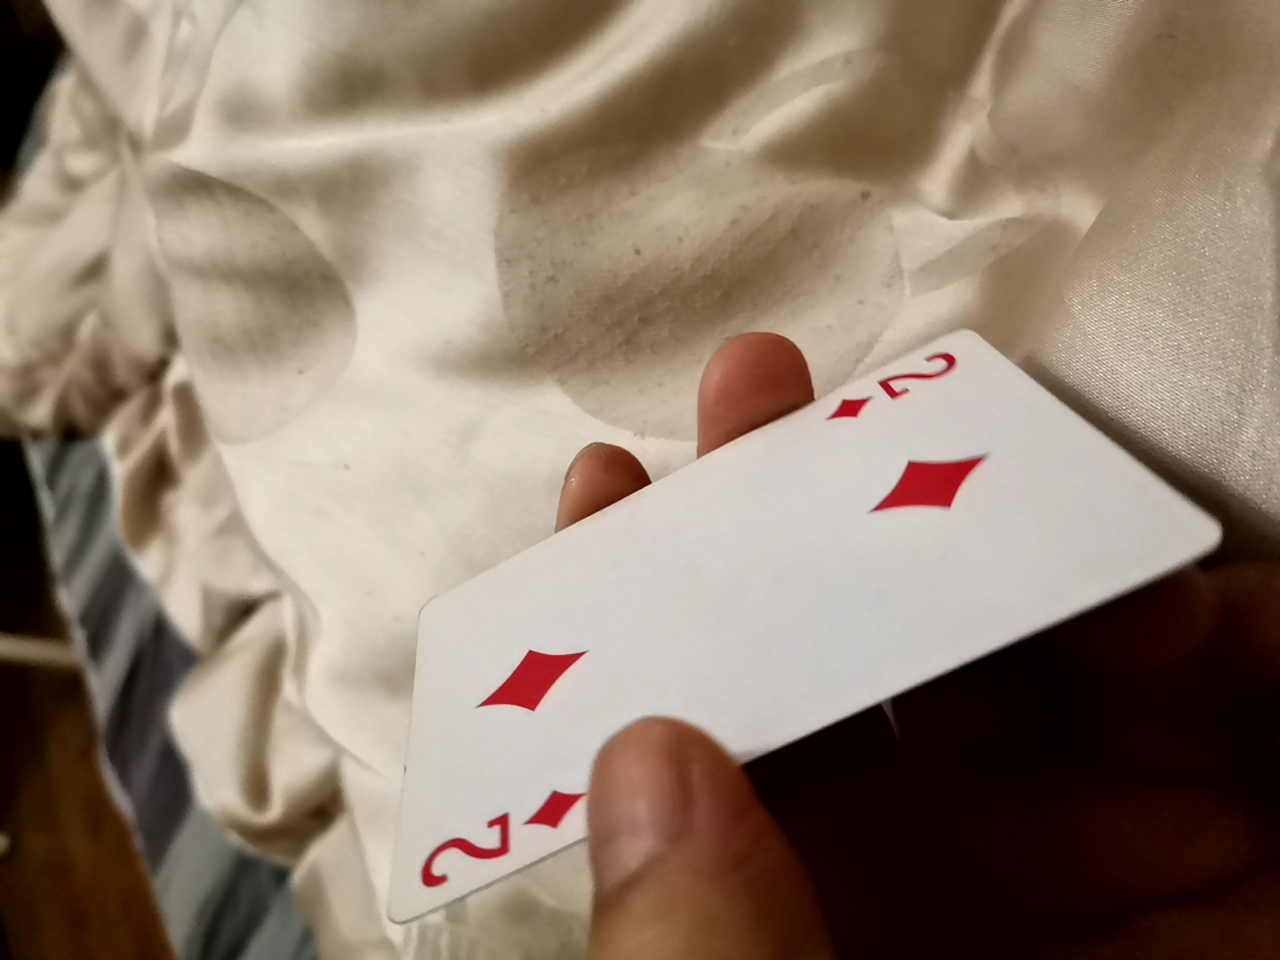fk 2: (317, 382, 1243, 827)
